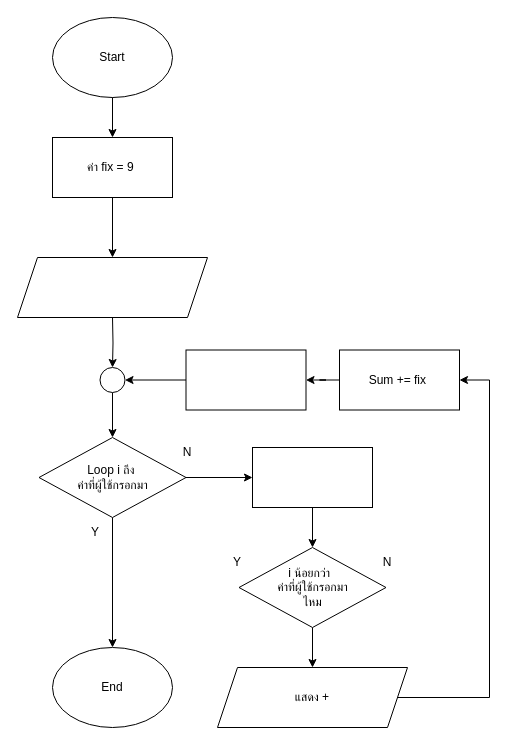
This 515x745 diagram has some shape labels left out. The shapes that lost their labels are listed below. From the top down, each one's box as (x1, y1, x2, y2) in pixels, then its label:
(16, 256, 208, 318): รับข้อมูลเลขUser
(185, 349, 306, 410): fix = fix x 10 + 9
(252, 446, 372, 508): แสดง ค่า fix
